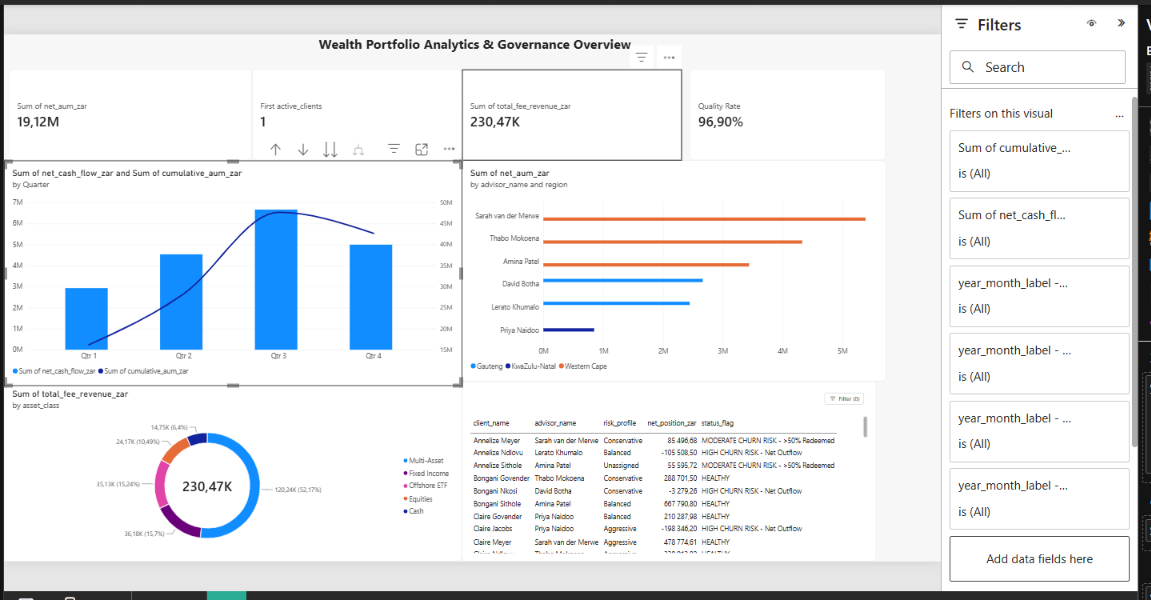

The page's visual inventory and layout, read from the dashboard file:
{"tool":"powerbi","page":{"name":"Page 1","canvas":[1920,1080],"ordinal":0},"visuals":[{"type":"textbox","box":[10.3,0,1910.1,144.1],"z":0},{"type":"cardVisual","fields":{"Data":["vw_aum_by_advisor_and_risk.Quality Rate"]},"box":[1406,71.7,401.7,186.5],"z":1000},{"type":"lineClusteredColumnComboChart","fields":{"Category":["vw_monthly_net_flows.year_month_label.Variation.Date Hierarchy.Year","vw_monthly_net_flows.year_month_label.Variation.Date Hierarchy.Quarter","vw_monthly_net_flows.year_month_label.Variation.Date Hierarchy.Month","vw_monthly_net_flows.year_month_label.Variation.Date Hierarchy.Day"],"Y":["Sum(vw_monthly_net_flows.net_cash_flow_zar)"],"Y2":["Sum(vw_monthly_net_flows.cumulative_aum_zar)"]},"box":[0,258.2,938.7,463.2],"z":2000},{"type":"clusteredBarChart","fields":{"Category":["vw_aum_by_advisor_and_risk.advisor_name"],"Series":["vw_aum_by_advisor_and_risk.region"],"Y":["Sum(vw_aum_by_advisor_and_risk.net_aum_zar)"]},"box":[938.7,258.2,869,452.9],"z":3000},{"type":"donutChart","fields":{"Category":["vw_fee_revenue_by_asset_class.asset_class"],"Y":["Sum(vw_fee_revenue_by_asset_class.total_fee_revenue_zar)"]},"box":[0,711.2,938.7,368.9],"z":4000},{"type":"tableEx","fields":{"Values":["vw_client_churn_and_anomaly_flags.client_name","vw_client_churn_and_anomaly_flags.advisor_name","vw_client_churn_and_anomaly_flags.risk_profile","vw_client_churn_and_anomaly_flags.net_position_zar","vw_client_churn_and_anomaly_flags.status_flag"]},"box":[938.7,711.2,848.5,368.9],"z":5000},{"type":"cardVisual","fields":{"Data":["Sum(vw_aum_by_advisor_and_risk.net_aum_zar)"]},"box":[10.2,71.7,498,186.5],"z":6000},{"type":"cardVisual","fields":{"Data":["Sum(vw_fee_revenue_by_asset_class.total_fee_revenue_zar)"]},"box":[938.7,71.7,450.9,186.5],"z":7000},{"type":"cardVisual","fields":{"Data":["CountNonNull(vw_aum_by_advisor_and_risk.active_clients)"]},"box":[508.3,71.7,430.4,186.5],"z":8000}]}

Visuals, with their boxes on the page's 1920x1080 design canvas (x1, y1, x2, y2). These are canvas units, not pixel positions in the 1151x600 screenshot, which may show the page scaled, cropped or inside an application window:
textbox: bbox=[10, 0, 1920, 144]
cardVisual - vw_aum_by_advisor_and_risk.Quality Rate: bbox=[1406, 72, 1808, 258]
lineClusteredColumnComboChart - vw_monthly_net_flows.year_month_label.Variation.Date Hierarchy.Year x vw_monthly_net_flows.year_month_label.Variation.Date Hierarchy.Quarter: bbox=[0, 258, 939, 721]
clusteredBarChart - vw_aum_by_advisor_and_risk.advisor_name x vw_aum_by_advisor_and_risk.region: bbox=[939, 258, 1808, 711]
donutChart - vw_fee_revenue_by_asset_class.asset_class x Sum(vw_fee_revenue_by_asset_class.total_fee_revenue_zar): bbox=[0, 711, 939, 1080]
tableEx - vw_client_churn_and_anomaly_flags.client_name x vw_client_churn_and_anomaly_flags.advisor_name: bbox=[939, 711, 1787, 1080]
cardVisual - Sum(vw_aum_by_advisor_and_risk.net_aum_zar): bbox=[10, 72, 508, 258]
cardVisual - Sum(vw_fee_revenue_by_asset_class.total_fee_revenue_zar): bbox=[939, 72, 1390, 258]
cardVisual - CountNonNull(vw_aum_by_advisor_and_risk.active_clients): bbox=[508, 72, 939, 258]
